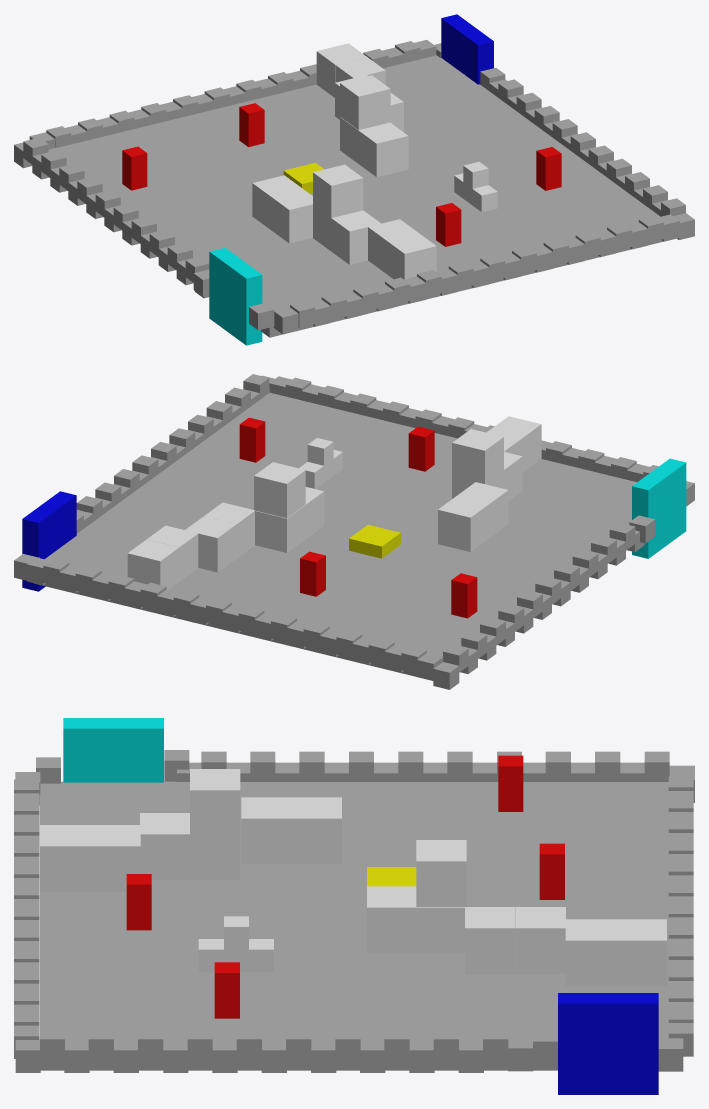
The model's file is level1_b4_25.fbx.
3 renders of one model, top to bottom at view 1: azimuth 30°, elevation 25°; view 2: azimuth 150°, elevation 25°; view 3: azimuth 270°, elevation 25°, orthographic. The views are drawn at different scales.
Visible parts, largest first — view 1: pCube1, pCube55, pCube56, pCube70, pCube68, pCube69, pCube62, pCube58, pCube60, pCube63, pCube61, pCube57 (+12 smaller); view 2: pCube1, pCube55, pCube56, pCube61, pCube70, pCube69, pCube63, pCube65, pCube67, pCube64, pCube58, pCube62 (+21 smaller); view 3: pCube1, pCube56, pCube55, pCube64, pCube62, pCube63, pCube61, pCube68, pCube65, pCube66, pCube70, pCube69 (+47 smaller).
Boxes of the visible parts, x1,y1,x2,y2 form: pCube1: [48, 55, 663, 337]; pCube55: [209, 248, 262, 345]; pCube56: [441, 14, 493, 84]; pCube70: [340, 75, 390, 129]; pCube68: [358, 122, 408, 176]; pCube69: [313, 164, 363, 218]; pCube62: [271, 189, 312, 243]; pCube58: [386, 232, 436, 279]; pCube60: [331, 210, 380, 264]; pCube63: [316, 43, 366, 97]; pCube61: [252, 175, 302, 229]; pCube57: [368, 219, 417, 273]; pCube1: [33, 392, 636, 676]; pCube55: [632, 458, 686, 558]; pCube56: [22, 491, 76, 591]; pCube61: [438, 496, 489, 551]; pCube70: [254, 462, 305, 518]; pCube69: [452, 429, 503, 483]; pCube63: [127, 539, 179, 589]; pCube65: [185, 516, 236, 572]; pCube67: [255, 505, 305, 552]; pCube64: [147, 525, 198, 581]; pCube58: [490, 416, 541, 471]; pCube62: [457, 482, 508, 537]; pCube1: [39, 781, 668, 1070]; pCube56: [558, 993, 658, 1094]; pCube55: [63, 718, 163, 782]; pCube64: [565, 919, 616, 986]; pCube62: [241, 797, 291, 864]; pCube63: [616, 919, 666, 986]; pCube61: [291, 797, 341, 864]; pCube68: [367, 886, 417, 953]; pCube65: [515, 907, 565, 973]; pCube66: [465, 907, 515, 973]; pCube70: [416, 840, 466, 906]; pCube69: [190, 769, 240, 834].
Bounding box in the file's own units: 27.35 × 5.7 × 27.01.
